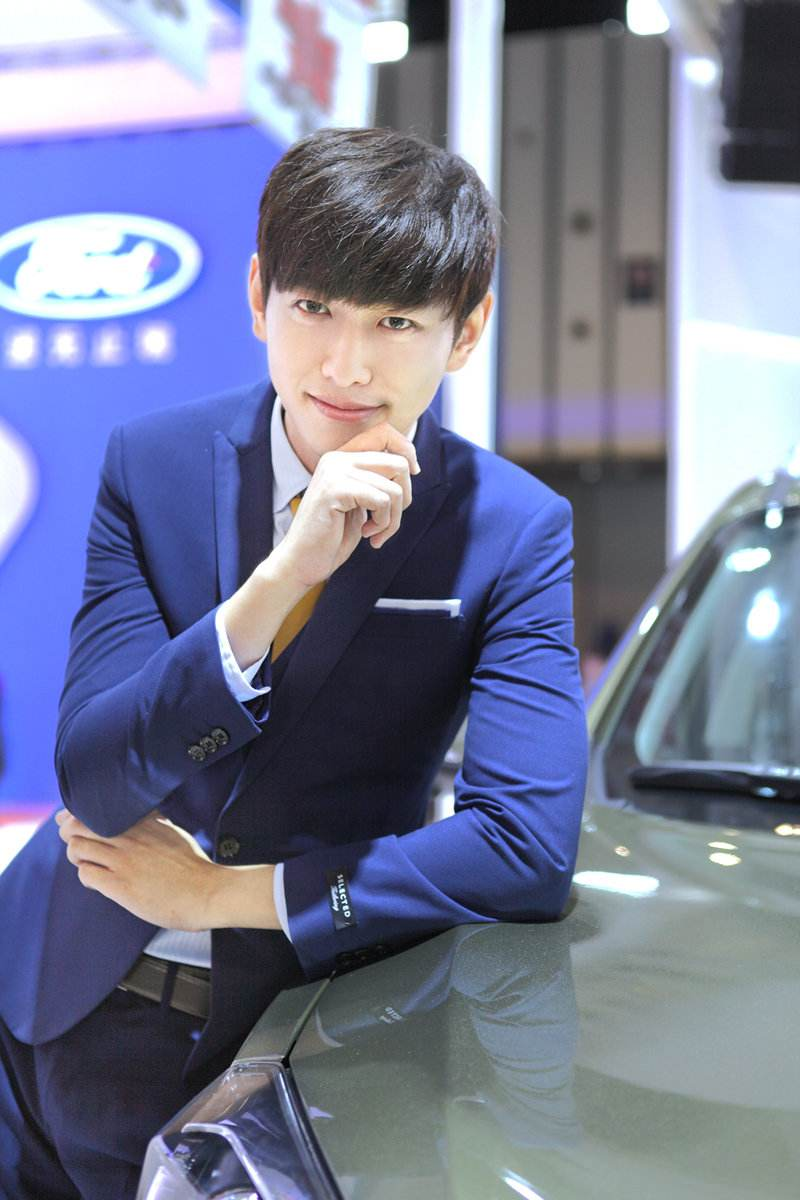person: (1, 59, 627, 992)
